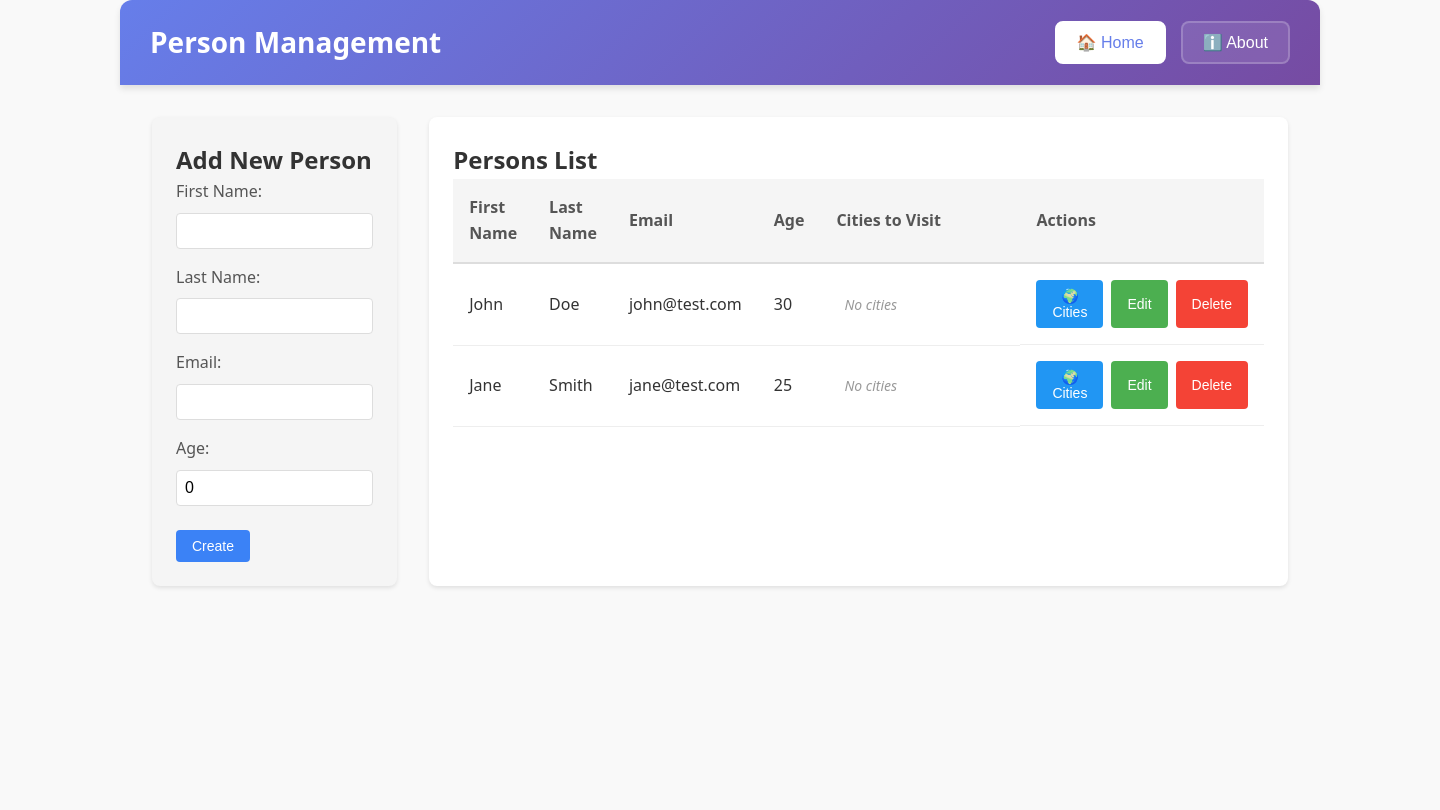
Scenario: App › delete person › should show error message when deletion fails
The image size is (1440, 810).
Check: the text "John" is shown, box [453, 263, 533, 345]
Click the button "Delete" in the row of "Doe".
click(1212, 304)  # box [1176, 280, 1248, 328]
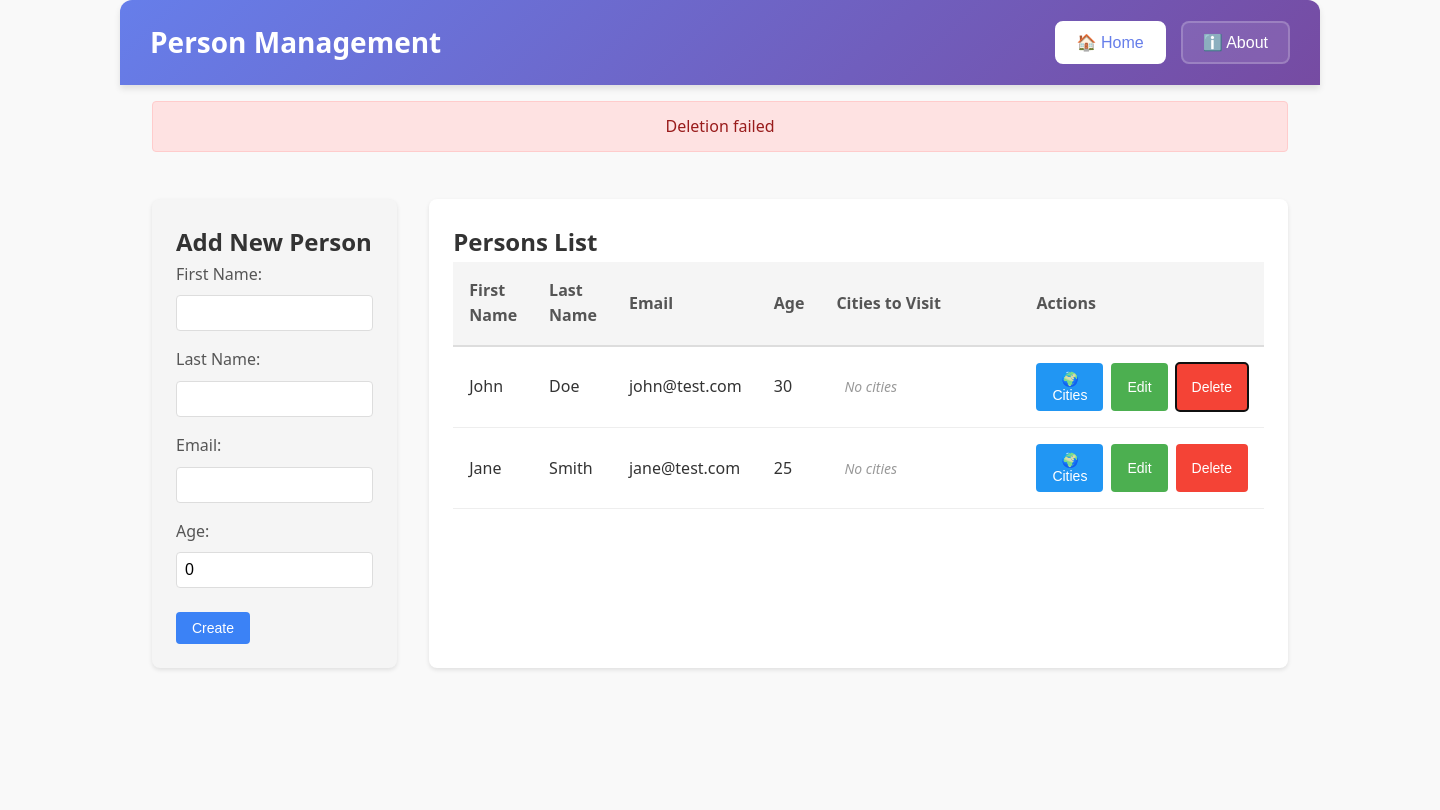
Check: the text "Deletion failed" is shown, box [152, 101, 1288, 152]
